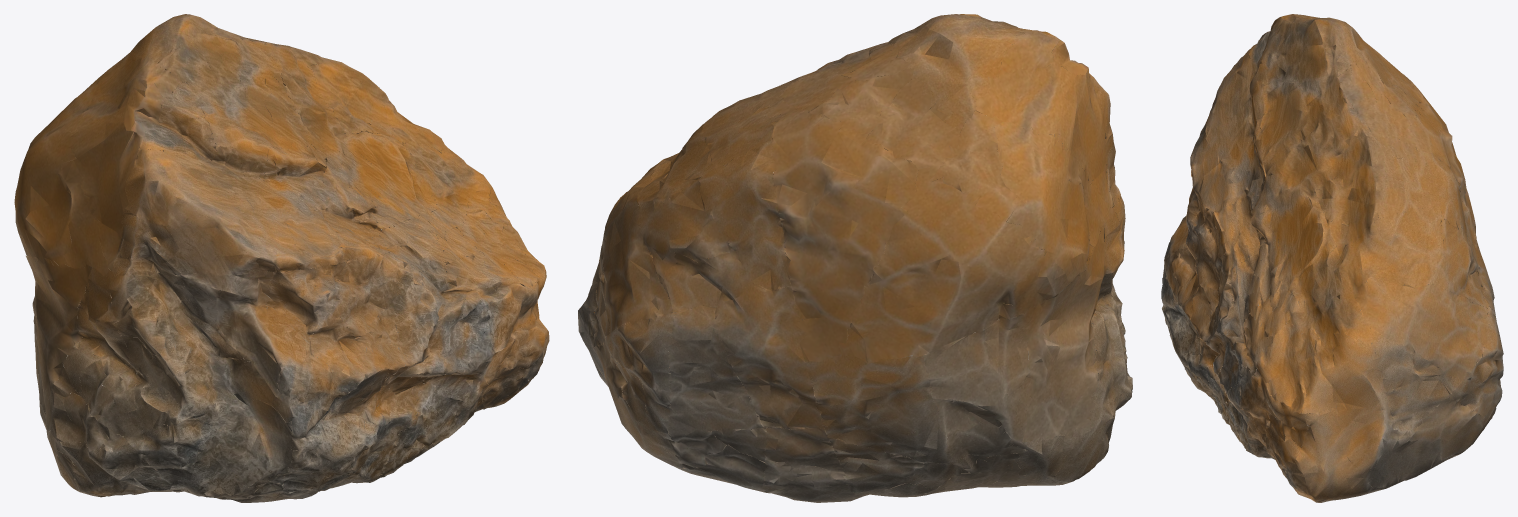
The model's file is rock_a_optimized.glb.
3 renders of one model, left to right at view 1: azimuth 30°, elevation 25°; view 2: azimuth 150°, elevation 25°; view 3: azimuth 270°, elevation 25°, orthographic. The views are drawn at different scales.
Visible parts, largest first — view 1: Mesh_0; view 2: Mesh_0; view 3: Mesh_0.
Boxes of the visible parts, box(x1,y1,x2,y2) form: Mesh_0: box(14, 14, 549, 502); Mesh_0: box(578, 14, 1132, 502); Mesh_0: box(1161, 14, 1503, 502).
Size of the model in its own units: 1.9 by 1.71 by 1.43.
1 material, 1 textured.
